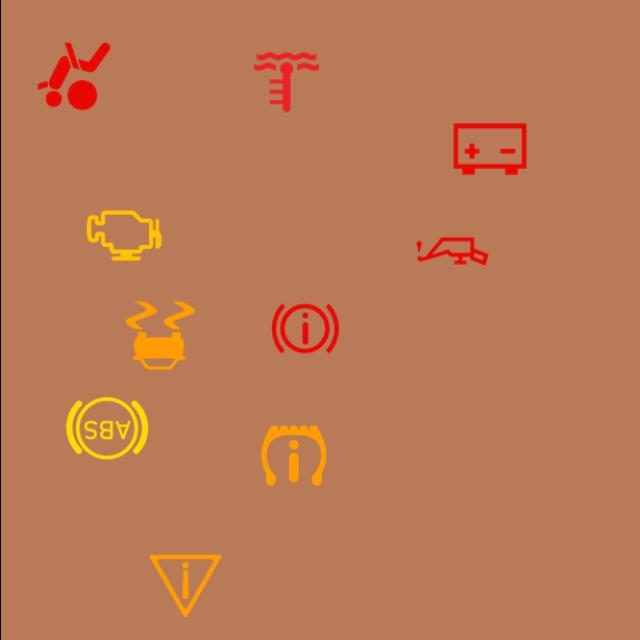Anti Lock Braking System: (62, 384, 152, 474)
Braking System Issue: (260, 284, 350, 374)
Charging System Issue: (444, 104, 534, 194)
Check Engine: (78, 190, 168, 280)
Electronic Stability Problem -ESP-: (114, 290, 204, 380)
Engine Overheating Warning Light: (240, 38, 330, 128)
Low Engine Oil Warning Light: (406, 206, 496, 296)
Low Tire Pressure Warning Light: (248, 410, 338, 500)
Master warning light: (140, 541, 230, 631)
SRS-Airbag: (28, 31, 118, 121)
